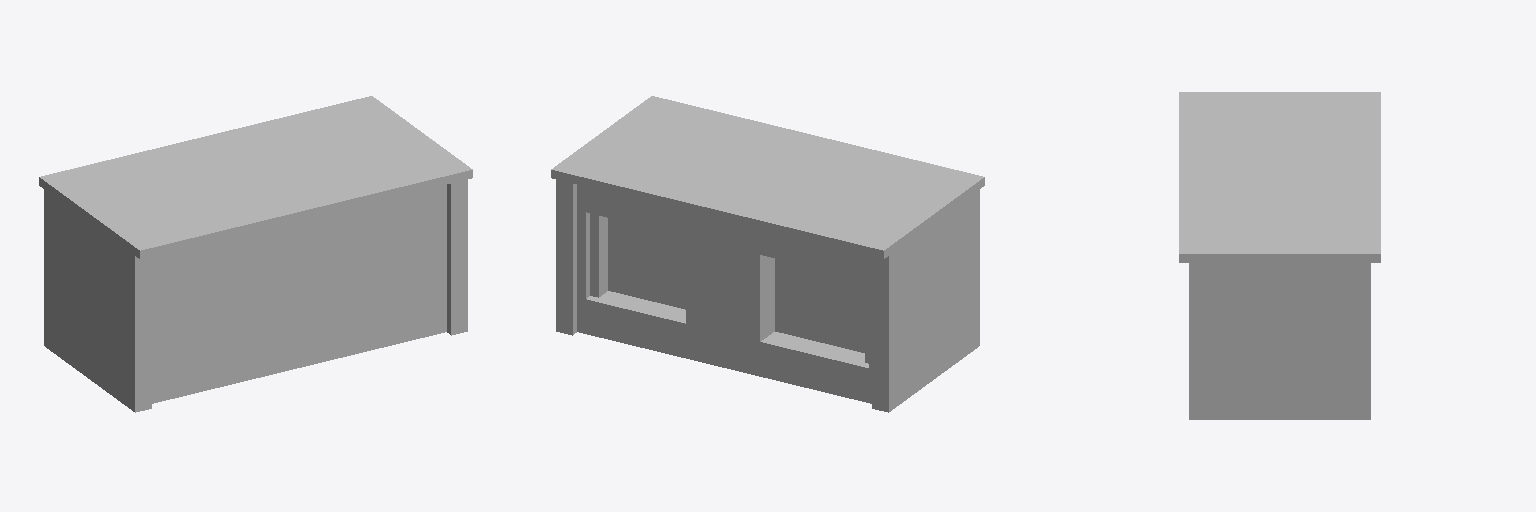
File: Desk.obj
3 renders of one model, left to right at view 1: azimuth 30°, elevation 25°; view 2: azimuth 150°, elevation 25°; view 3: azimuth 270°, elevation 25°, orthographic.
Visible parts, largest first — view 1: object 1; view 2: object 1; view 3: object 1.
Boxes of the visible parts, x1,y1,x2,y2 form: object 1: [39, 96, 472, 412]; object 1: [551, 96, 984, 412]; object 1: [1179, 92, 1380, 419].
Size of the model in its own units: 4 by 1.9 by 2.1.